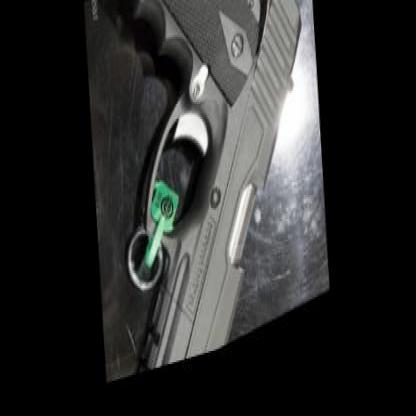pistol: (94, 0, 327, 388)
